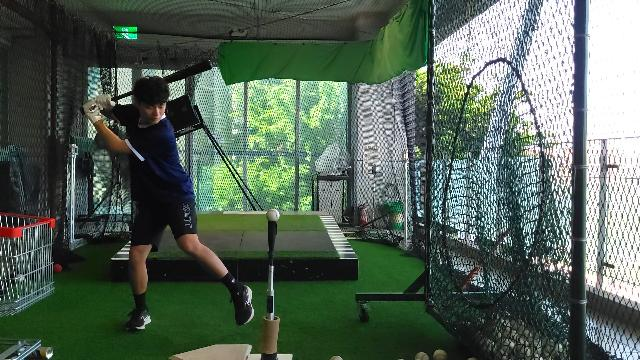ball: (266, 208, 282, 224)
bat: (110, 58, 214, 103)
